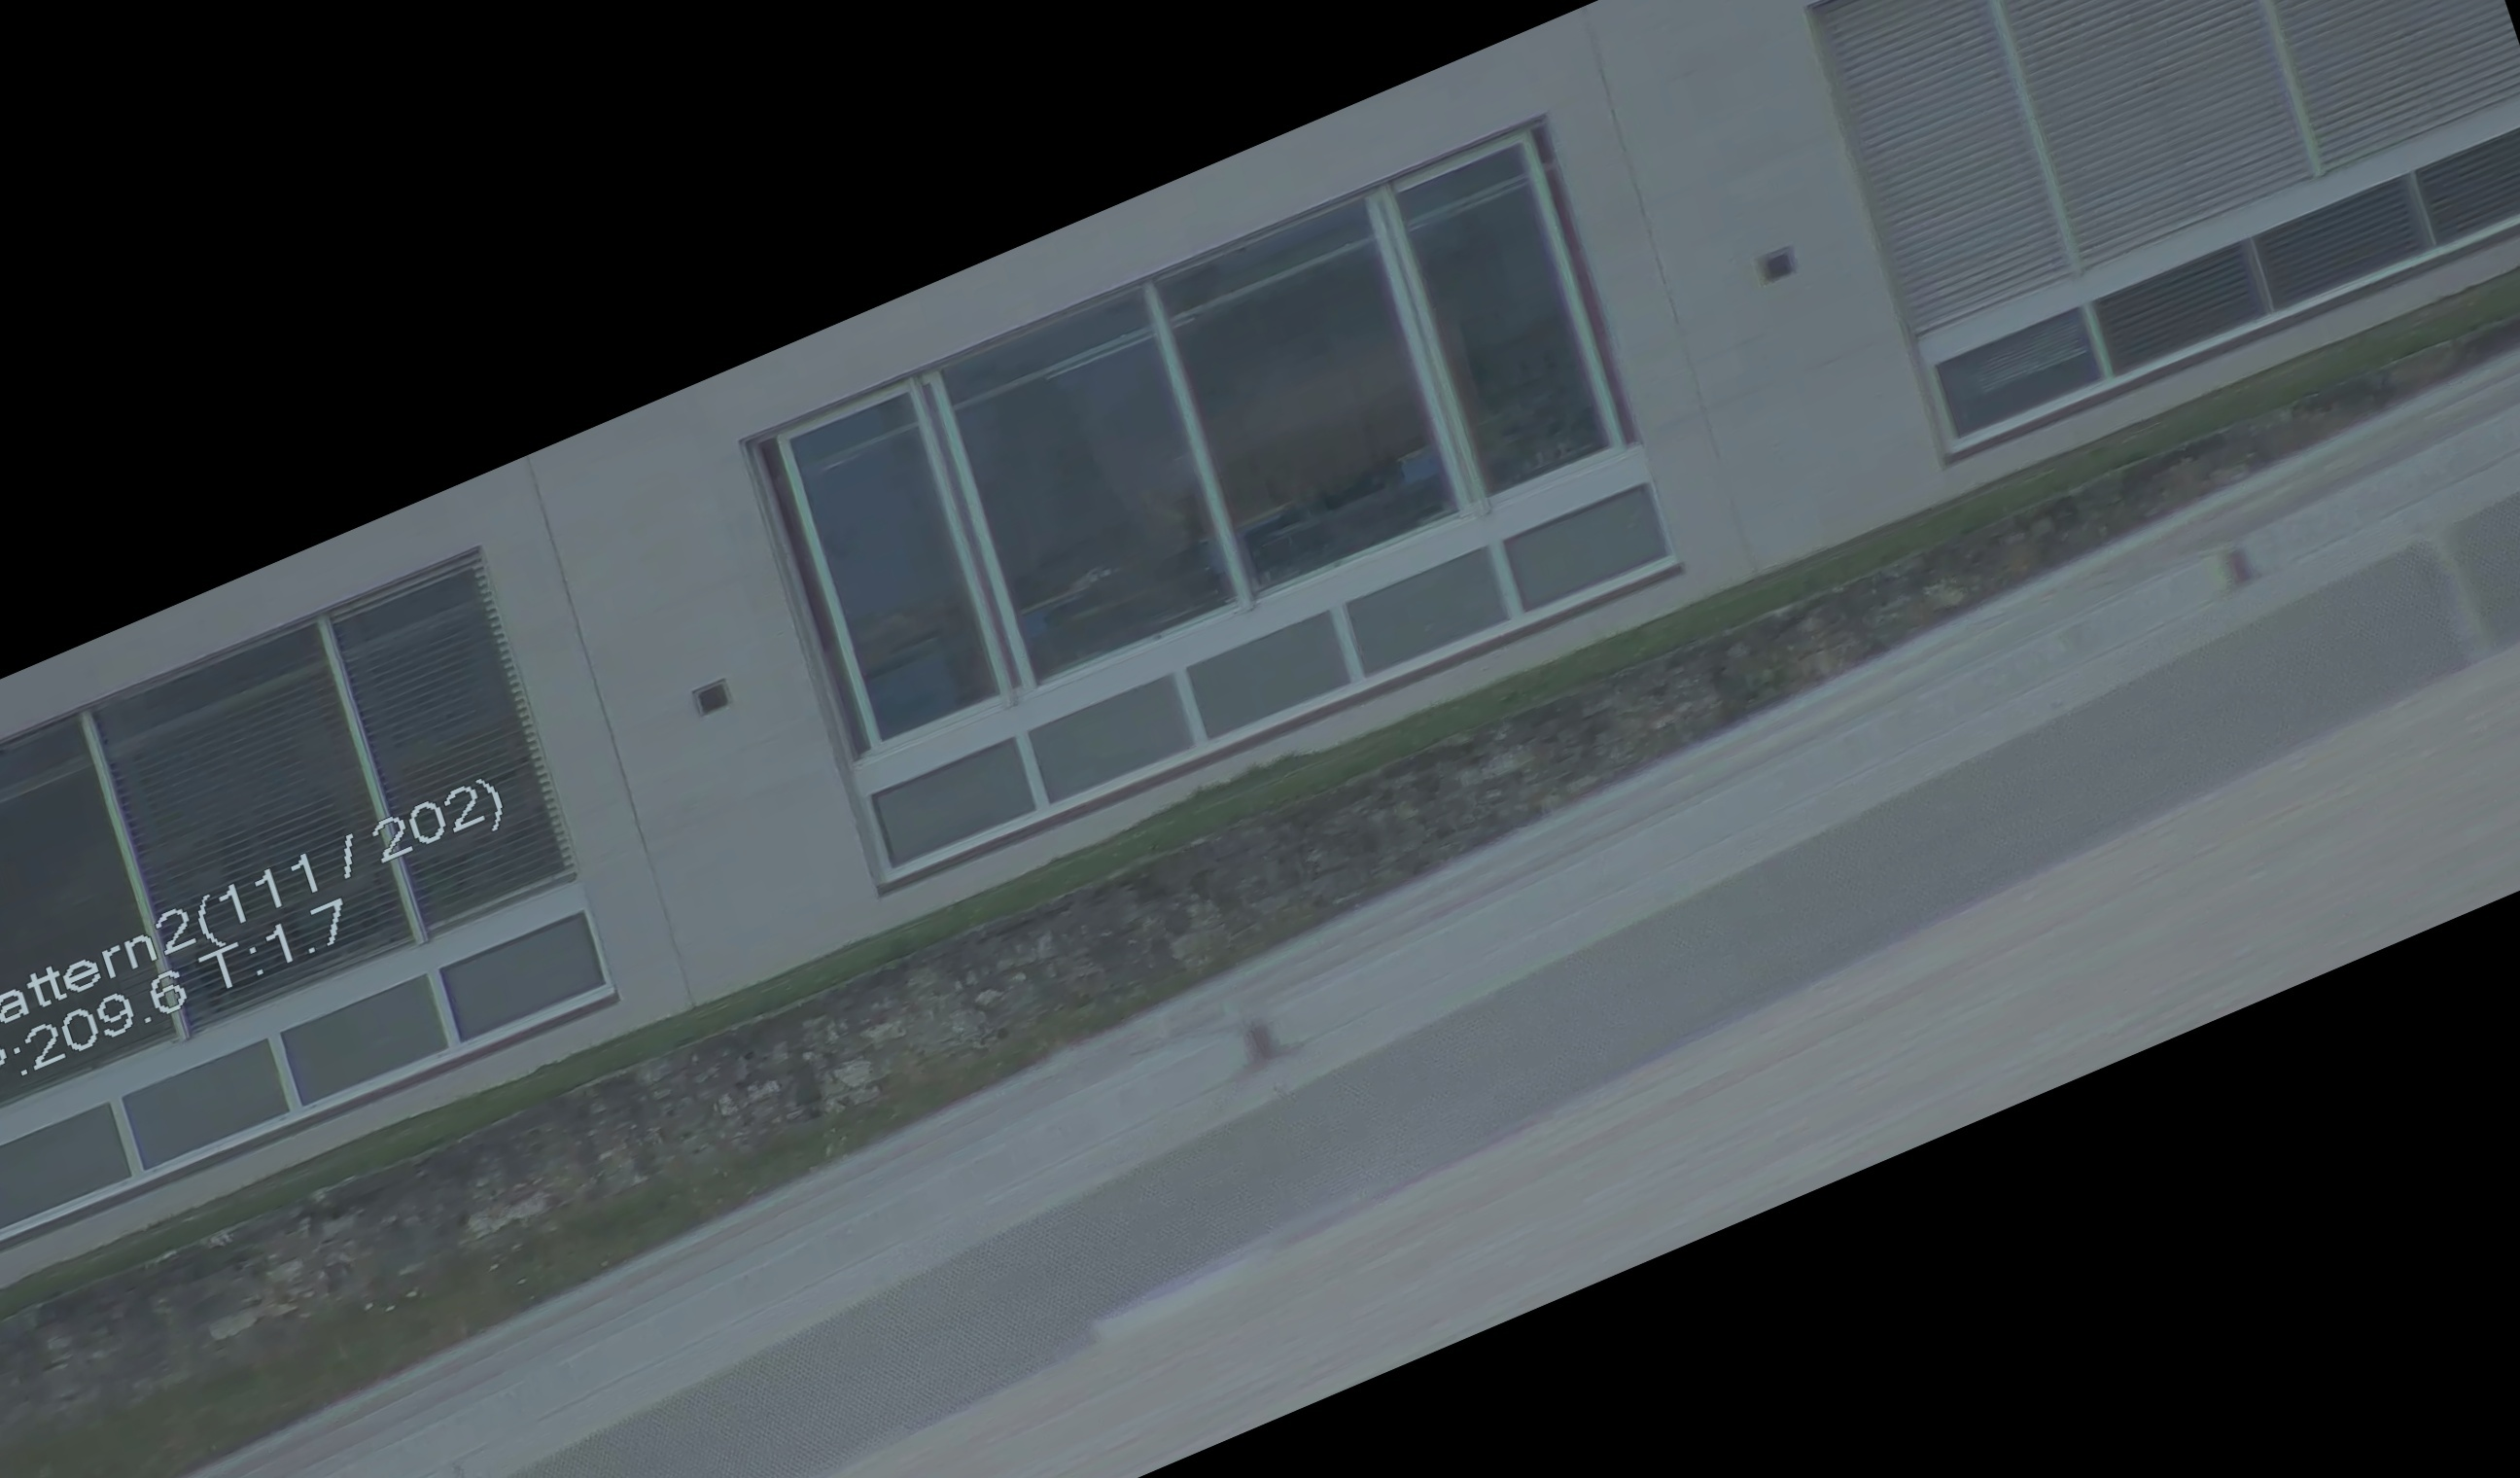Other: (1215, 982, 1310, 1087)
